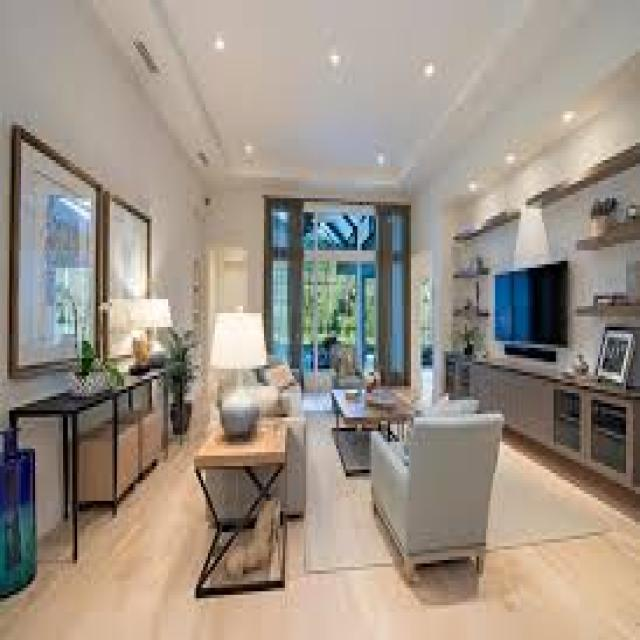Chair: (368, 410, 498, 584)
Lamp: (203, 292, 268, 452), (118, 285, 174, 367)
Table: (11, 361, 177, 531), (200, 417, 298, 598), (331, 376, 417, 471)
